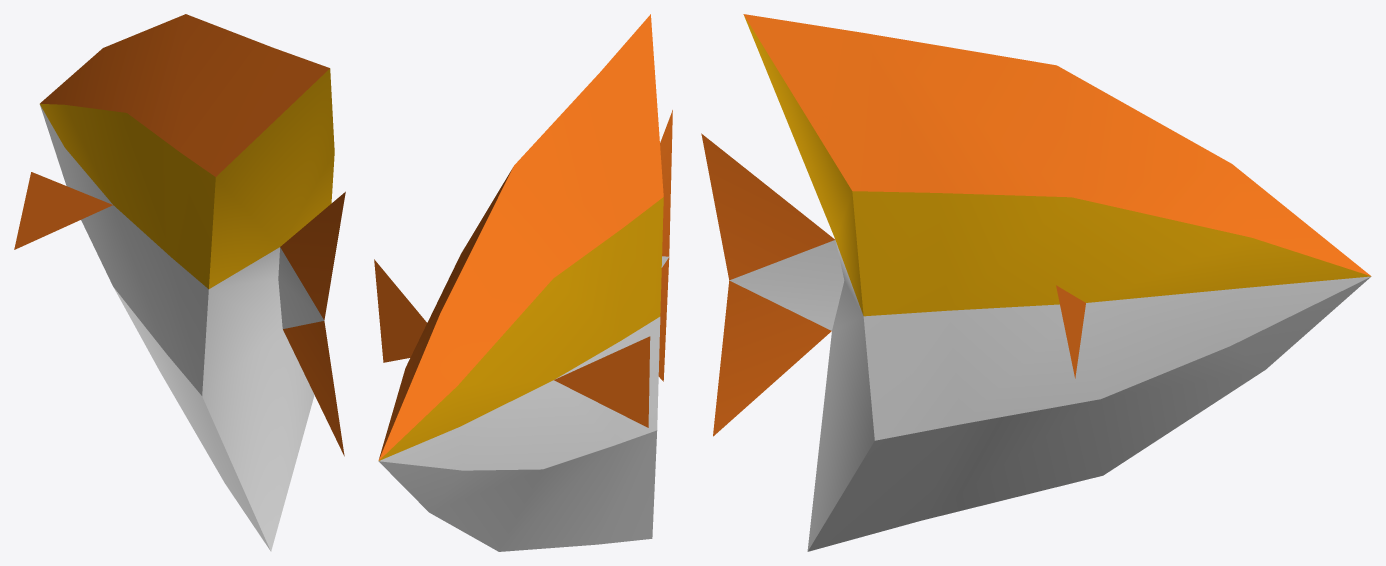
File: fish1.obj
3 renders of one model, left to right at view 1: azimuth 30°, elevation 25°; view 2: azimuth 150°, elevation 25°; view 3: azimuth 270°, elevation 25°, orthographic. The views are drawn at different scales.
Parts seen in each view (by area): view 1: fish; view 2: fish; view 3: fish.
Boxes of the visible parts, left/top/right/bottom form: fish: left=14, top=14, right=345, bottom=551; fish: left=374, top=14, right=672, bottom=551; fish: left=701, top=14, right=1371, bottom=551.
Size of the model in its own units: 1.36 by 2.2 by 2.41.
